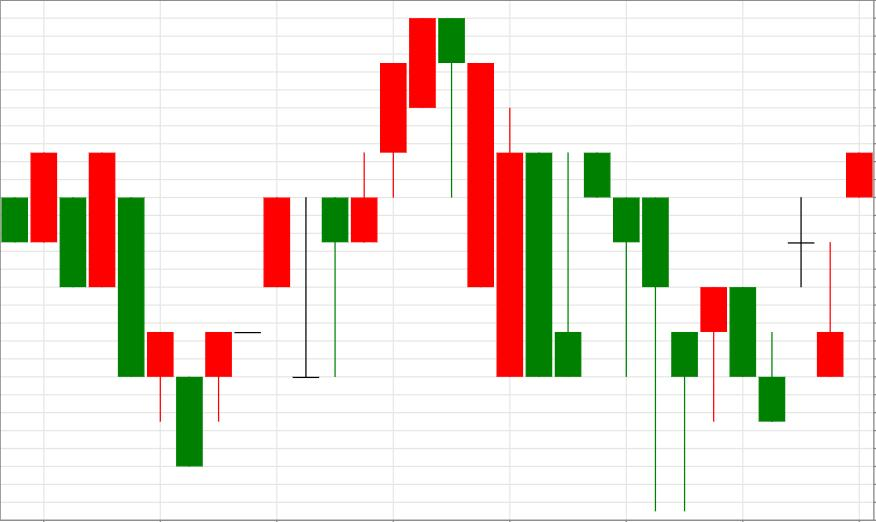hammer_rise: (584, 153, 698, 512)
hanging_man_fall: (296, 17, 465, 378)
